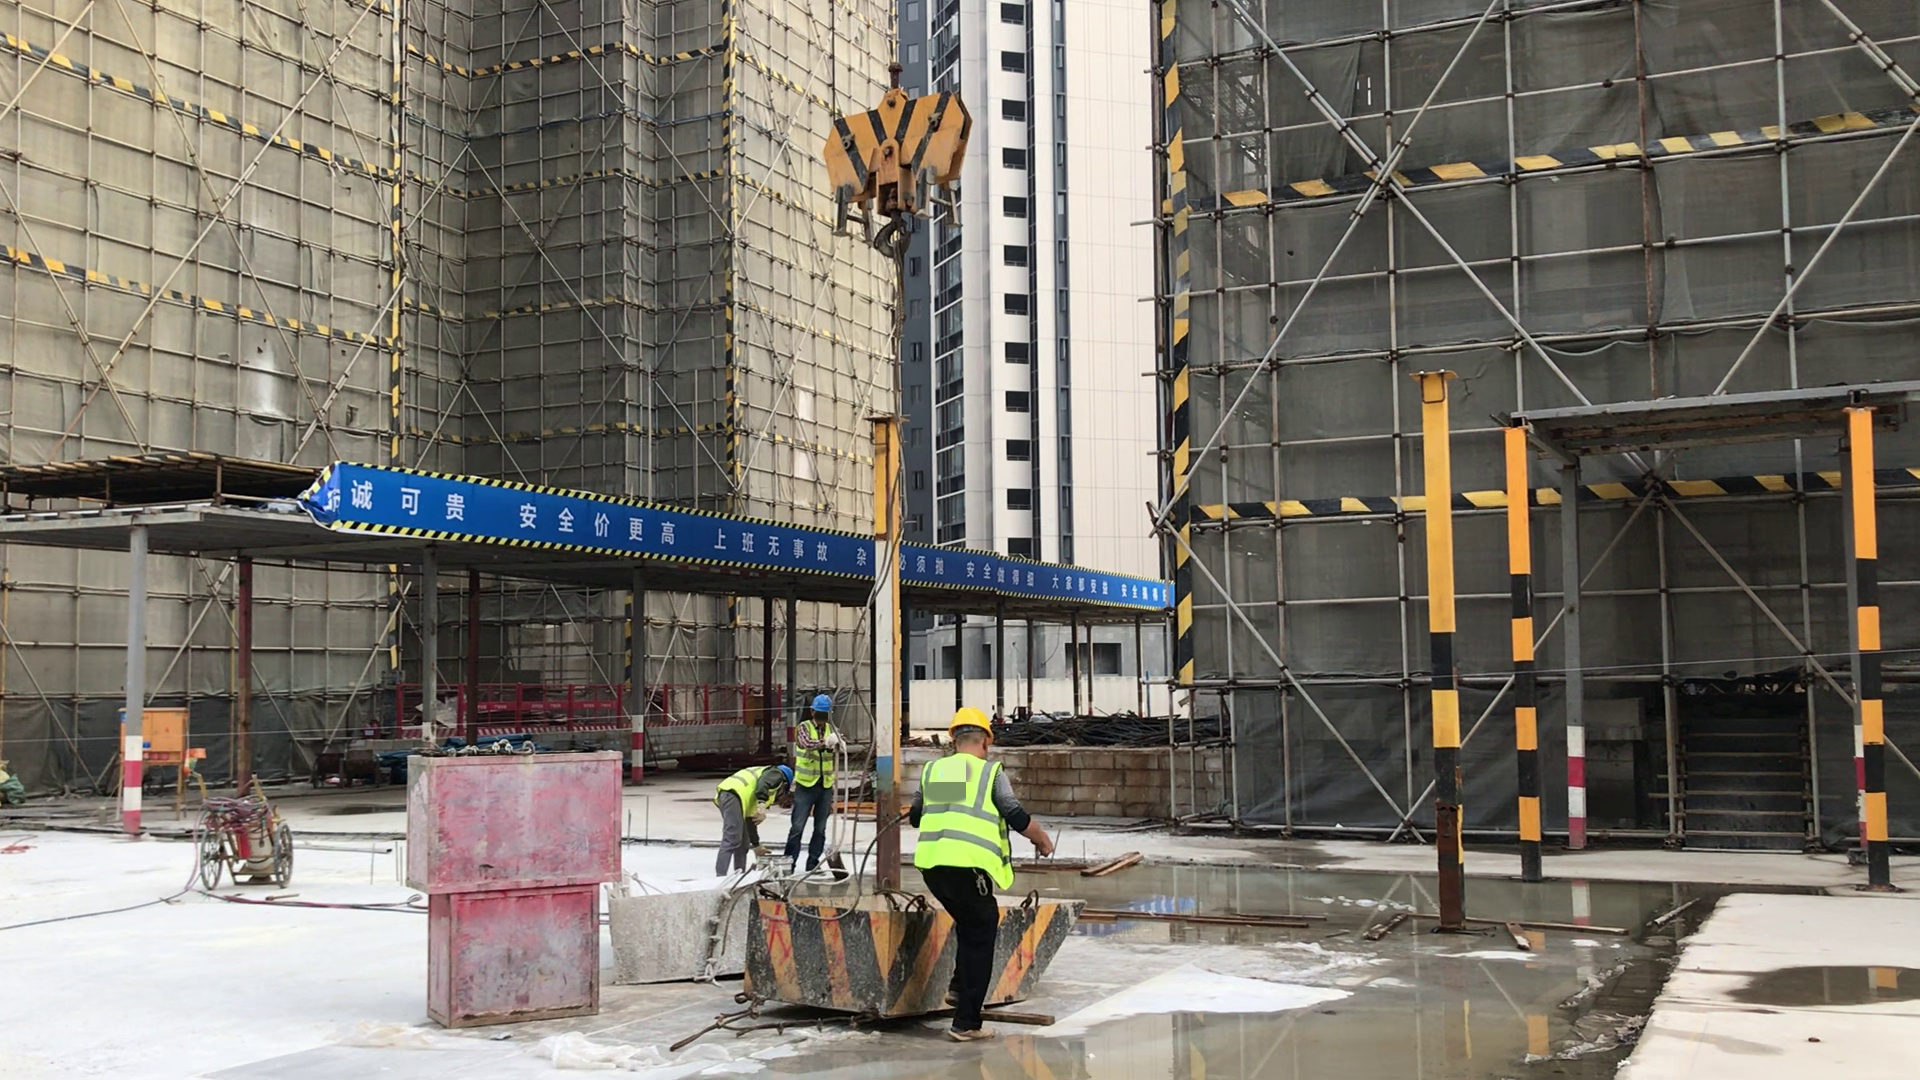ebox: (144, 701, 195, 820)
fence: (333, 468, 867, 586), (908, 543, 1171, 612), (491, 682, 625, 724), (681, 682, 759, 727)
handcart: (187, 769, 297, 895)
helmet: (943, 703, 994, 742), (808, 693, 835, 717), (779, 765, 793, 783)
hook: (822, 63, 976, 257)
hopper: (750, 893, 943, 1030), (614, 872, 745, 987)
person: (902, 700, 1060, 1047), (787, 692, 847, 880), (709, 758, 793, 878)
vest: (915, 753, 1018, 893), (715, 763, 778, 822), (793, 720, 839, 793)
